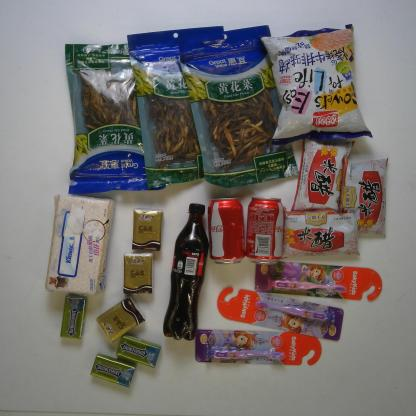Dried Food: (175, 22, 303, 190), (123, 23, 233, 190), (58, 40, 169, 196)
Drink: (161, 200, 211, 348), (244, 192, 287, 268), (205, 194, 248, 267)
Gum: (85, 351, 139, 389), (111, 330, 162, 368), (58, 292, 90, 342)
Personal Hygiene: (213, 285, 346, 343), (252, 258, 384, 305), (192, 324, 324, 366)
Puffed Food: (256, 22, 373, 145)
Seasoner: (291, 132, 359, 214), (339, 154, 393, 240), (282, 203, 362, 259)
Tissue: (43, 192, 118, 298), (94, 294, 148, 345), (121, 252, 155, 299), (130, 206, 164, 252)
